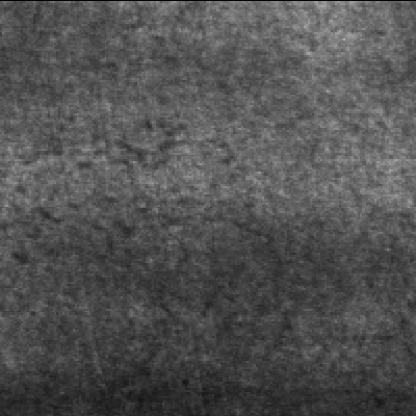crazing: (8, 137, 240, 227)
